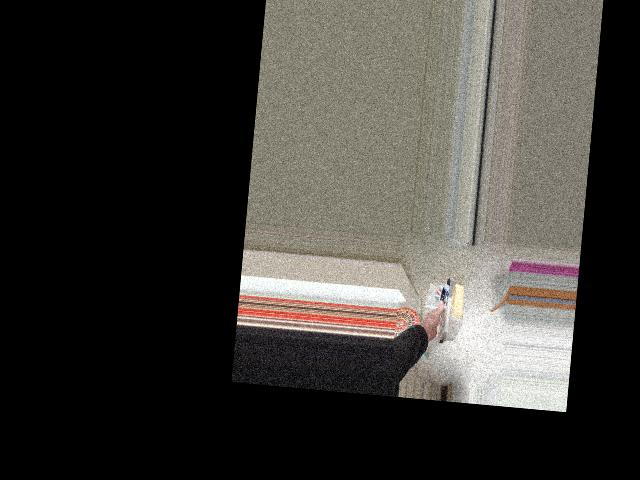cheese: (400, 275, 471, 349)
